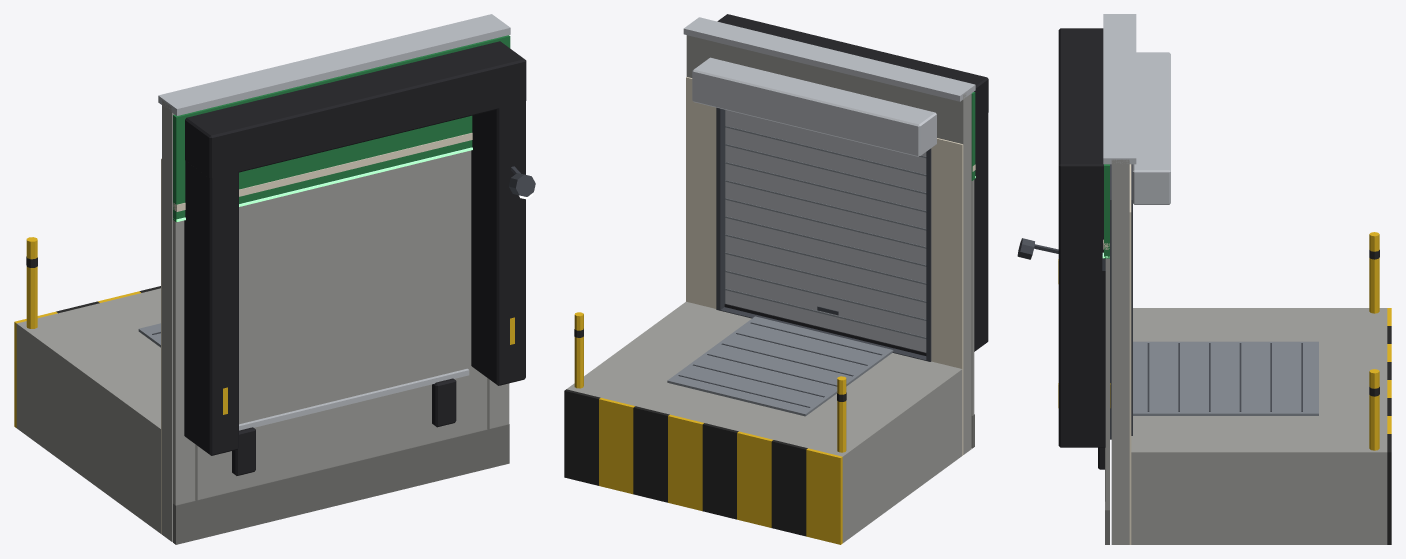
The model's file is Dock_Door_Roller_Market_4m.glb.
3 renders of one model, left to right at view 1: azimuth 30°, elevation 25°; view 2: azimuth 150°, elevation 25°; view 3: azimuth 270°, elevation 25°, orthographic. The views are drawn at different scales.
Parts seen in each view (by area): view 1: Dock_Door_Roller_Market_4m; view 2: Dock_Door_Roller_Market_4m, Dock_Door_Roller_Market_4m_Door; view 3: Dock_Door_Roller_Market_4m.
Boxes of the visible parts, box(x1,y1,x2,y2) form: Dock_Door_Roller_Market_4m: box(14, 14, 535, 544); Dock_Door_Roller_Market_4m: box(564, 14, 988, 544); Dock_Door_Roller_Market_4m_Door: box(724, 110, 926, 355); Dock_Door_Roller_Market_4m: box(1017, 14, 1391, 544).
Size of the model in its own units: 4 by 5 by 4.39.
Materials: 1 (1 with a texture image).
